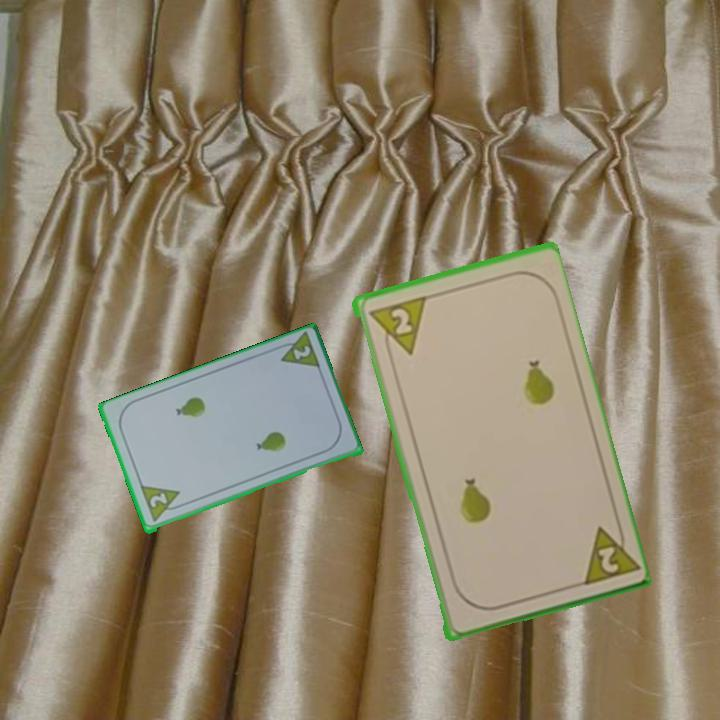2p: (364, 292, 428, 362), (137, 482, 187, 525), (593, 542, 621, 576), (289, 342, 313, 363)
